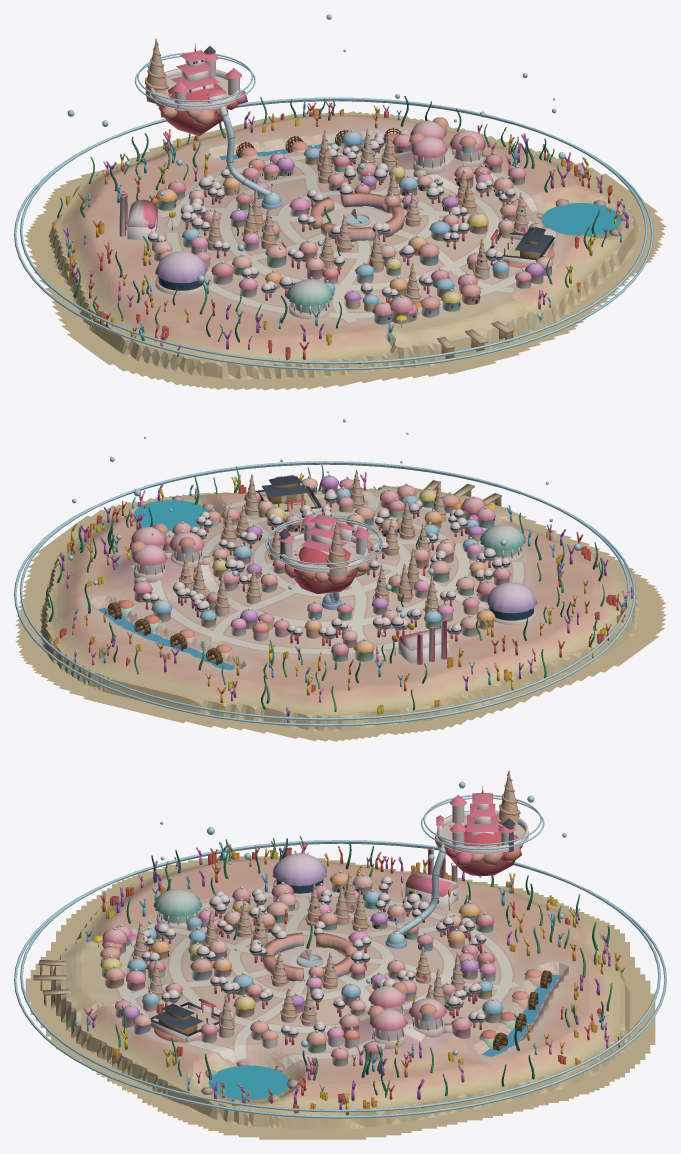
3 views of the same model, one above another, from view 1: azimuth 30°, elevation 25°; view 2: azimuth 150°, elevation 25°; view 3: azimuth 270°, elevation 25° (orthographic). The views are drawn at different scales.
Parts seen in each view (by area): view 1: BASE, VILLE_2, VILLE_3, VILLE_4; view 2: BASE, VILLE_2, VILLE_3, VILLE_4; view 3: BASE, VILLE_2, VILLE_3, VILLE_4.
Boxes of the visible parts, box(x1,y1,x2,y2) form: BASE: box(14, 14, 666, 390); VILLE_2: box(155, 128, 528, 319); VILLE_3: box(119, 117, 552, 311); VILLE_4: box(489, 226, 555, 267); BASE: box(14, 419, 666, 741); VILLE_2: box(163, 470, 537, 643); VILLE_3: box(108, 474, 511, 665); VILLE_4: box(255, 475, 321, 514); BASE: box(14, 770, 666, 1139); VILLE_2: box(127, 853, 494, 1053); VILLE_3: box(115, 847, 551, 1066); VILLE_4: box(150, 998, 219, 1042).
Size of the model in its own units: 66 by 19.7 by 64.28.
